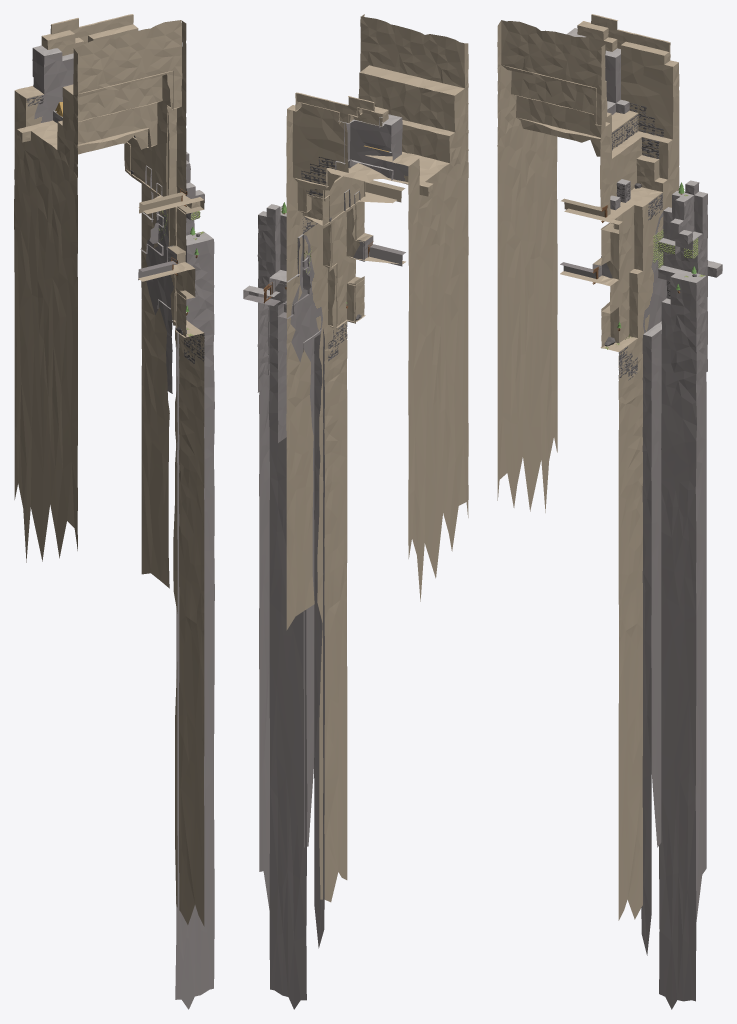
3 views of the same model, side by side, from view 1: azimuth 30°, elevation 25°; view 2: azimuth 150°, elevation 25°; view 3: azimuth 330°, elevation 25° (orthographic). The views are drawn at different scales.
Parts seen in each view (by area): view 1: 11; view 2: 11; view 3: 11.
Part boxes in pixels (x1,y1,x2,y2): 11: (14,14,214,1009); 11: (243,14,468,1009); 11: (497,14,722,1009).
Size of the model in its own units: 20.08 by 108 by 13.19.
1 material, 1 textured.
